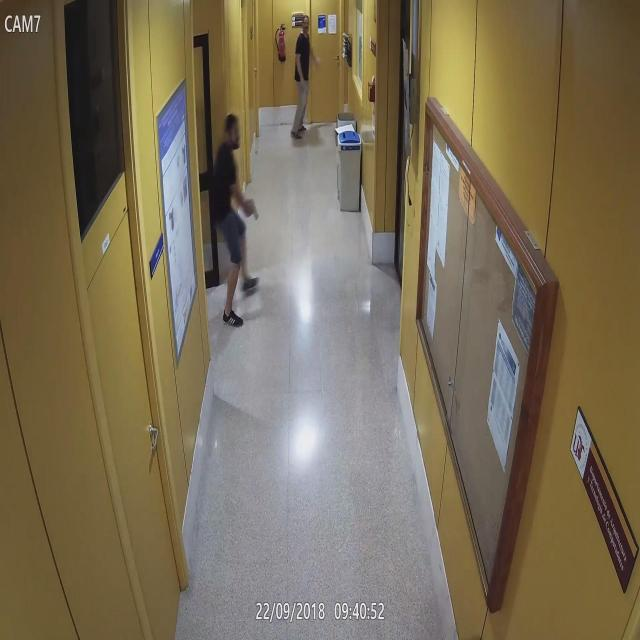pistol: (242, 192, 262, 227)
